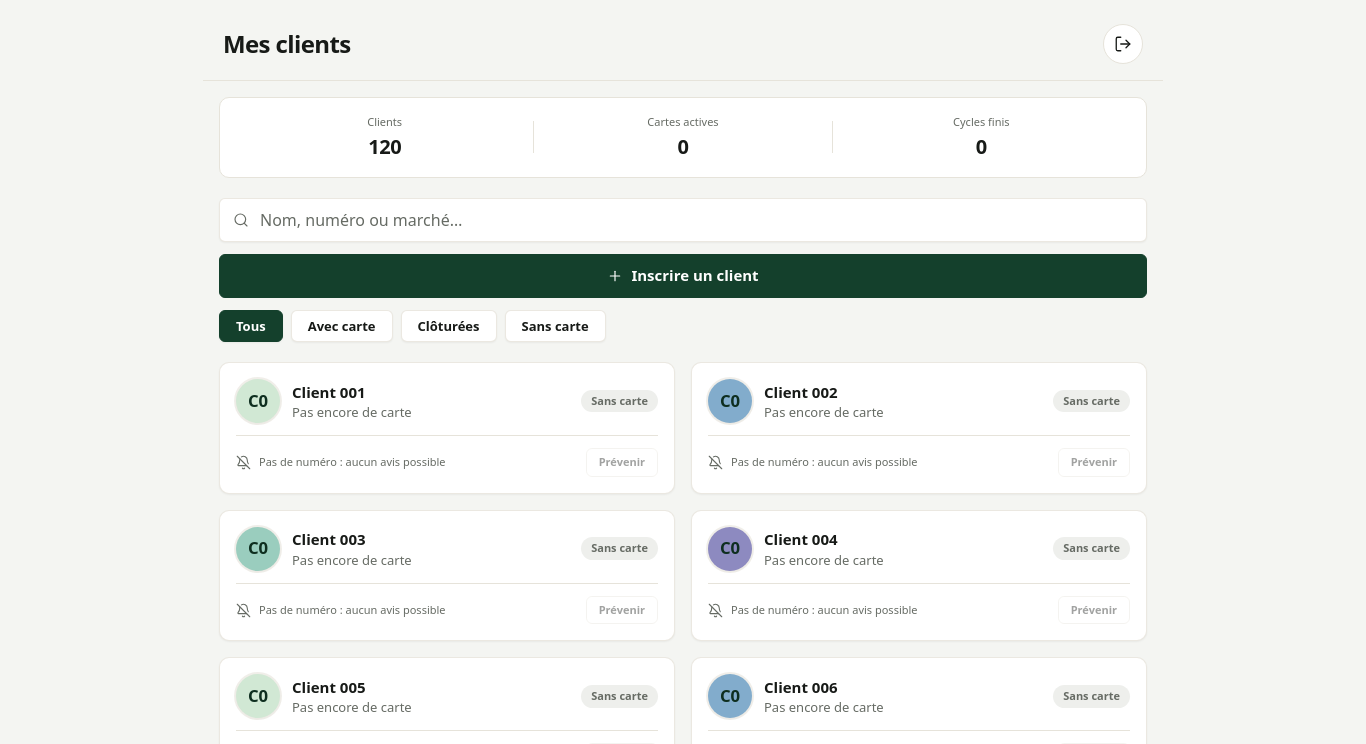
Test: pagination de la liste › cherche dans tous les clients, et non dans la page affichee
Expected: the text "Client 001" is shown, [292,382,366,402]
Type "Client 099" into the field named "Rechercher un client" at (683, 220), box [219,198,1147,242]
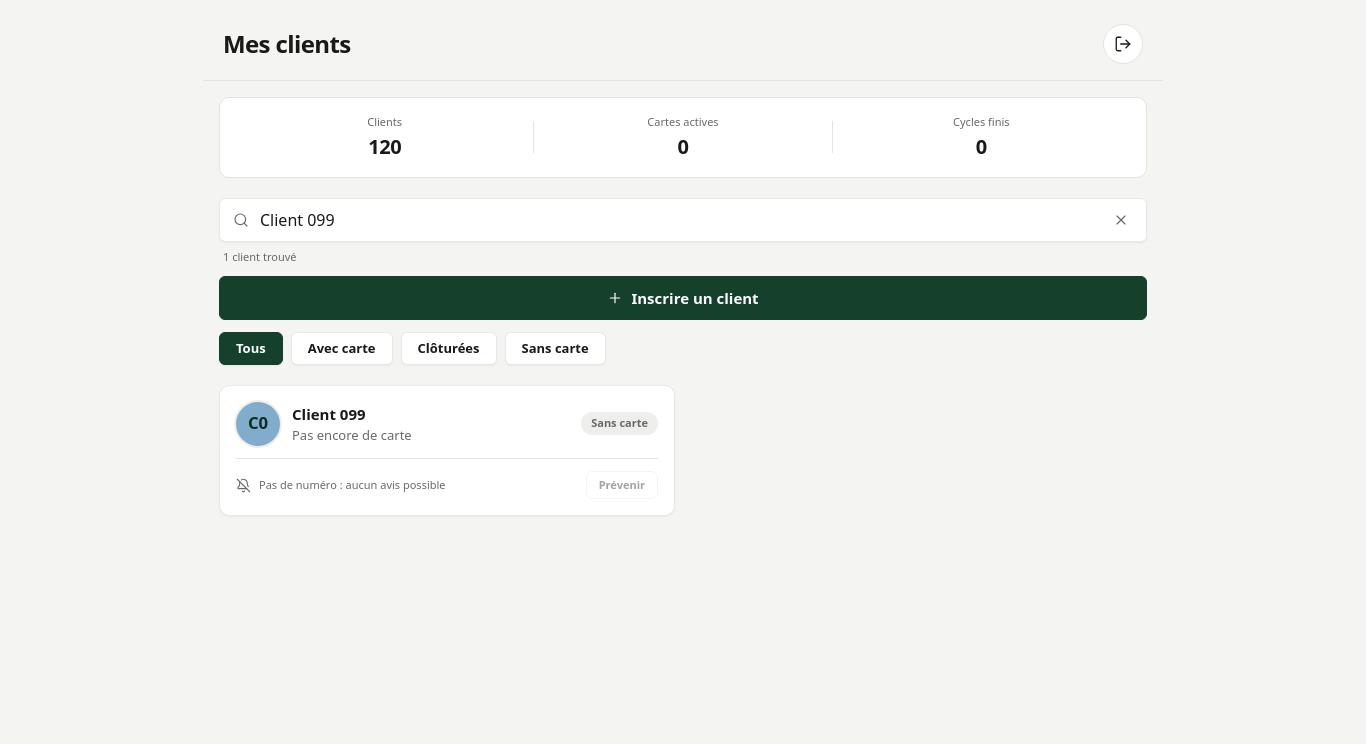
Now the text "Client 099" is shown, box [292,404,366,424]
